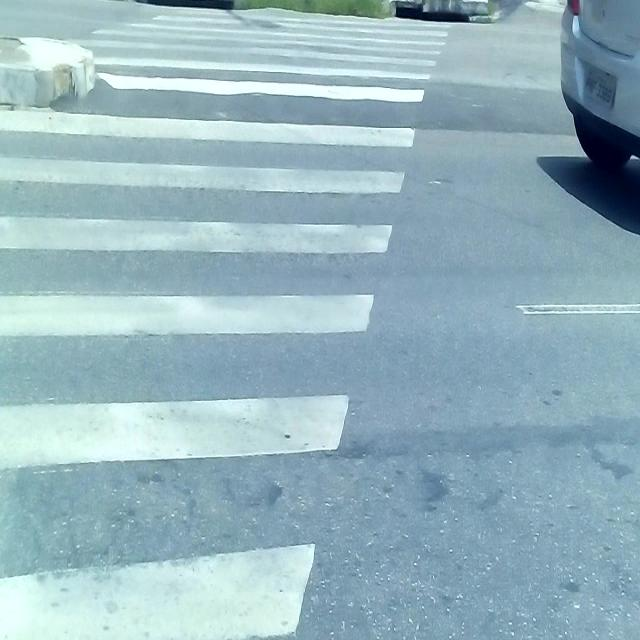crosswalk: (0, 7, 453, 640)
